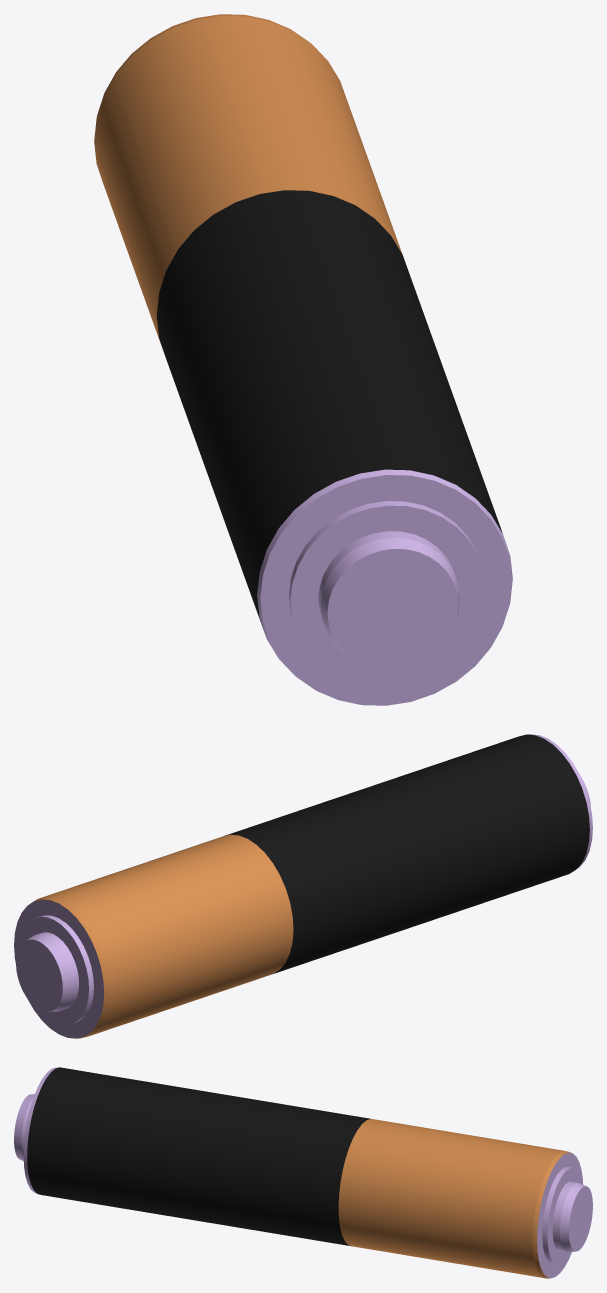
Rendered from БАТАРЕЙКА.fbx.
The picture shows the model from 3 angles, top to bottom: view 1: azimuth 30°, elevation 25°; view 2: azimuth 150°, elevation 25°; view 3: azimuth 270°, elevation 25°; orthographic projection. The views are drawn at different scales.
Parts seen in each view (by area): view 1: Цилиндр.130; view 2: Цилиндр.130; view 3: Цилиндр.130.
Boxes of the visible parts, x1,y1,x2,y2 form: Цилиндр.130: (94, 14, 512, 705); Цилиндр.130: (14, 734, 592, 1038); Цилиндр.130: (14, 1067, 592, 1278).
Bounding box in the file's own units: 34.21 × 13.85 × 62.
